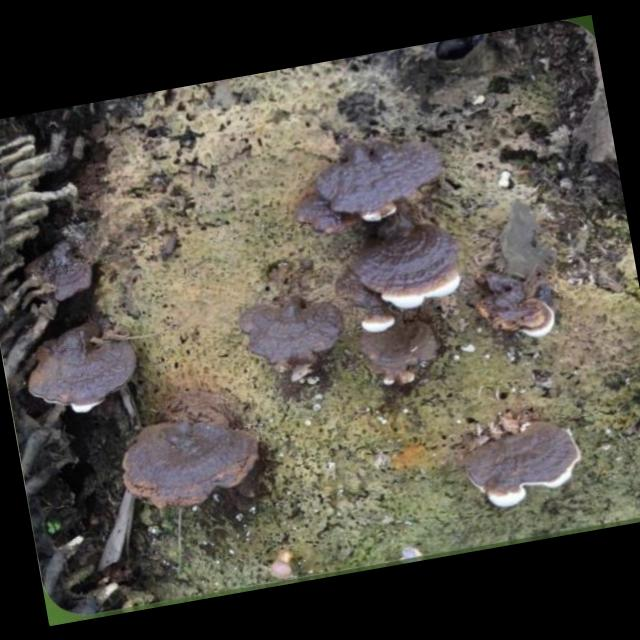ganoderma: (116, 408, 271, 522), (310, 133, 451, 232), (17, 320, 147, 422), (240, 289, 365, 393), (461, 416, 589, 511), (348, 223, 467, 318), (468, 263, 559, 347), (352, 316, 444, 393), (25, 243, 99, 308), (292, 193, 365, 241), (357, 301, 400, 336)
primordium: (498, 172, 516, 190)
